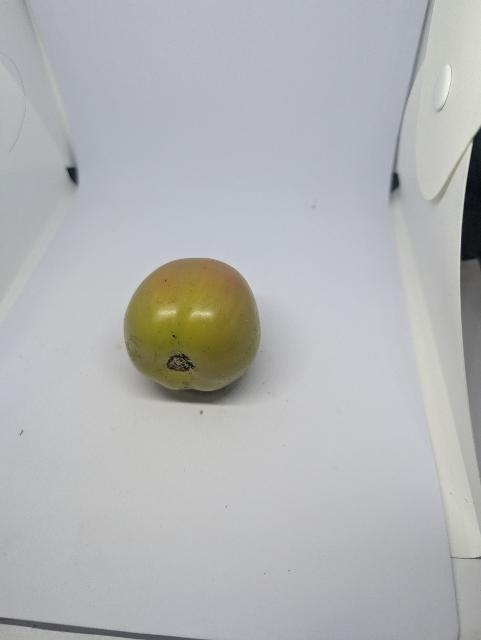turning: (121, 254, 270, 393)
